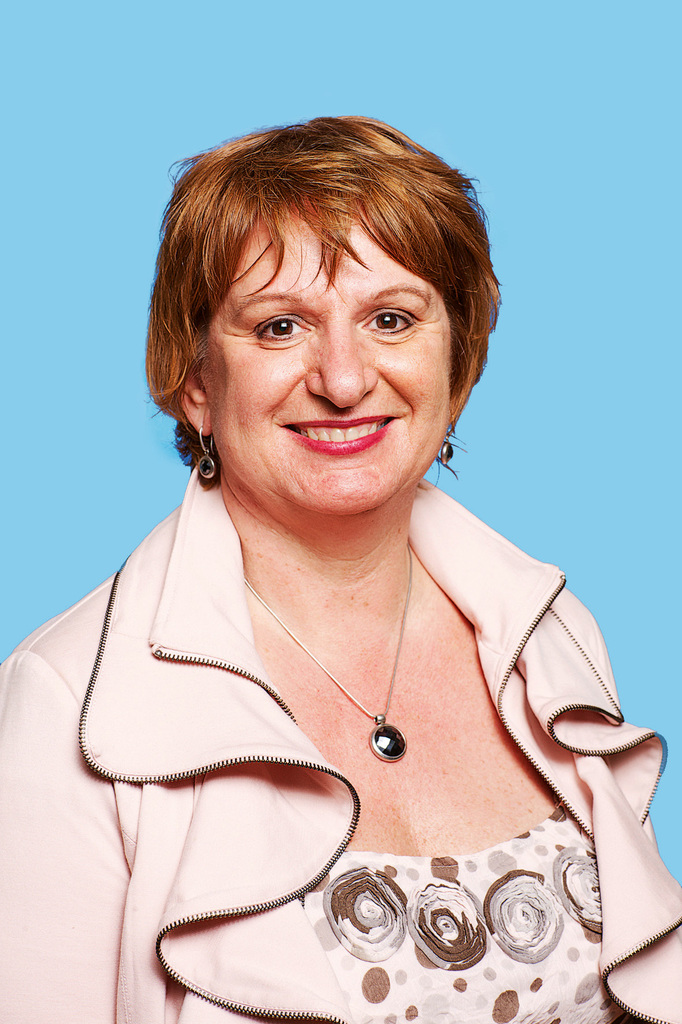face: (143, 109, 501, 523)
